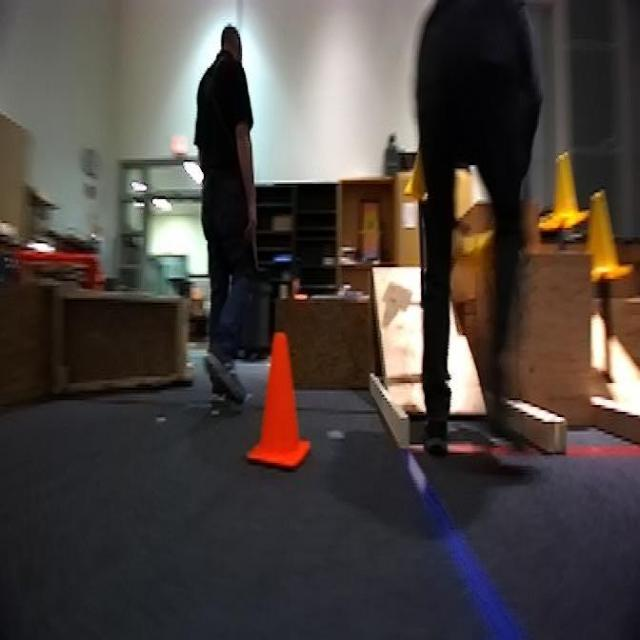frc_cone: (581, 190, 629, 280), (539, 153, 586, 233), (404, 143, 426, 201)
